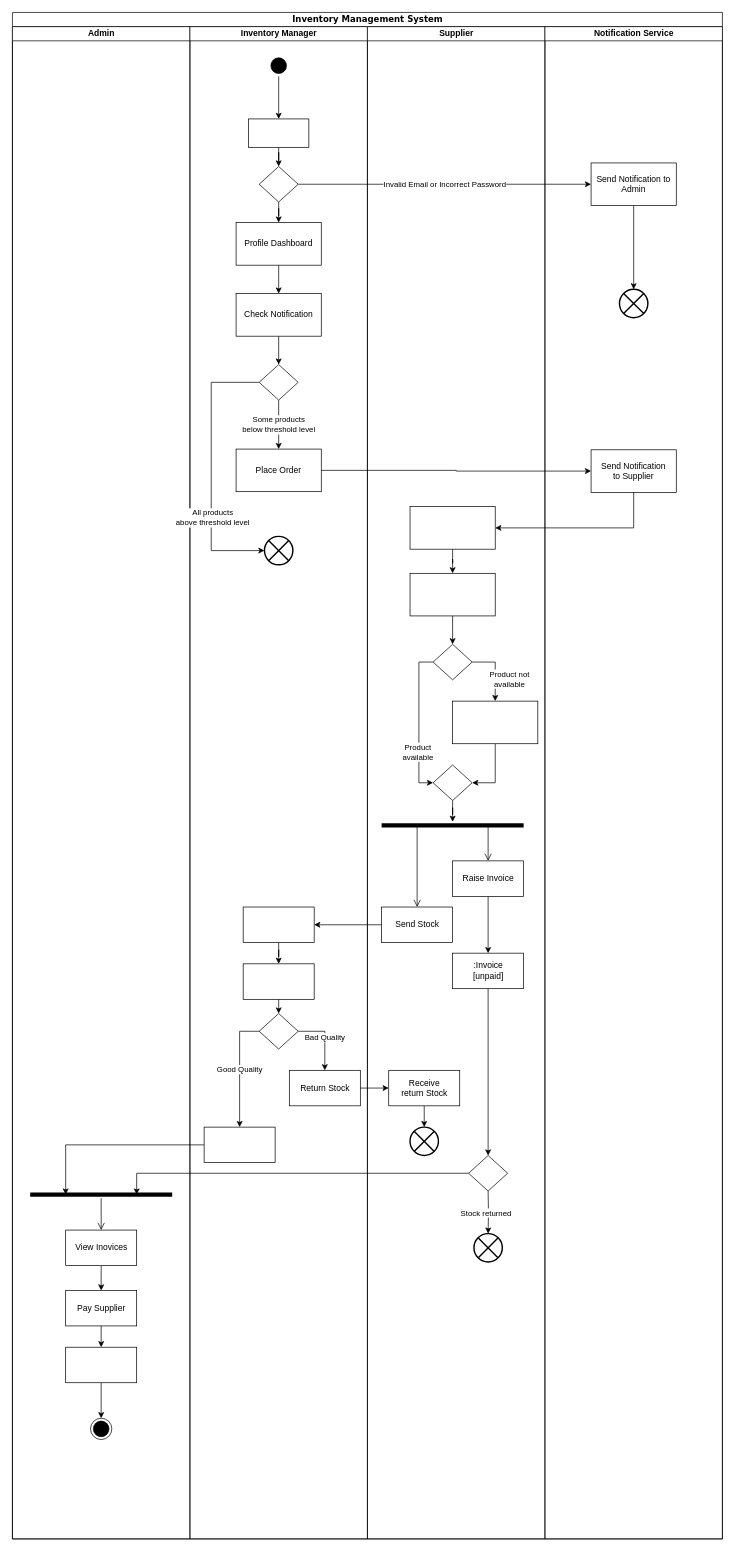
Image size: 735x1551. Some labels were removed from this diagram. The shapes that lost their labels are listed below. From the top down, each one's centre as x and y in pixels, then its label:
At pixel 278 132: "Login".
At pixel 452 527: "View Order".
At pixel 452 594: "Check product available".
At pixel 495 722: "Manufacture product".
At pixel 278 924: "Receive Stock".
At pixel 278 981: "Check Quality".
At pixel 239 1144: "Add Stock".
At pixel 101 1365: ":Invoice [paid]".
